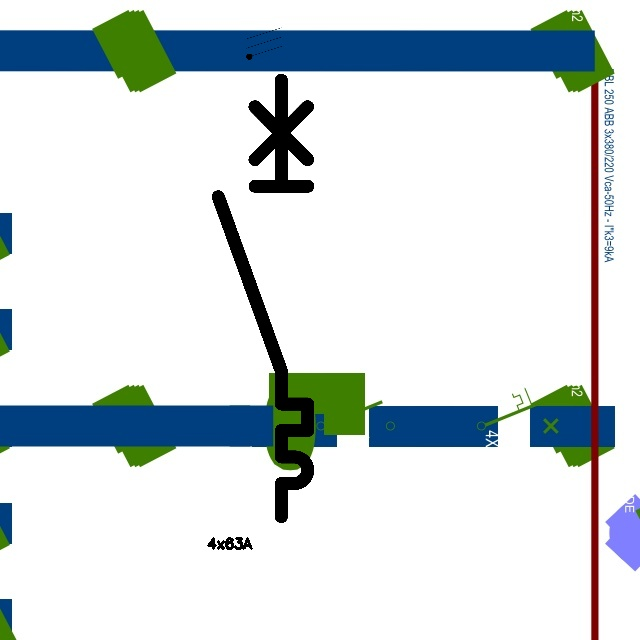interruptor_termomagnetico: (207, 68, 319, 527)
